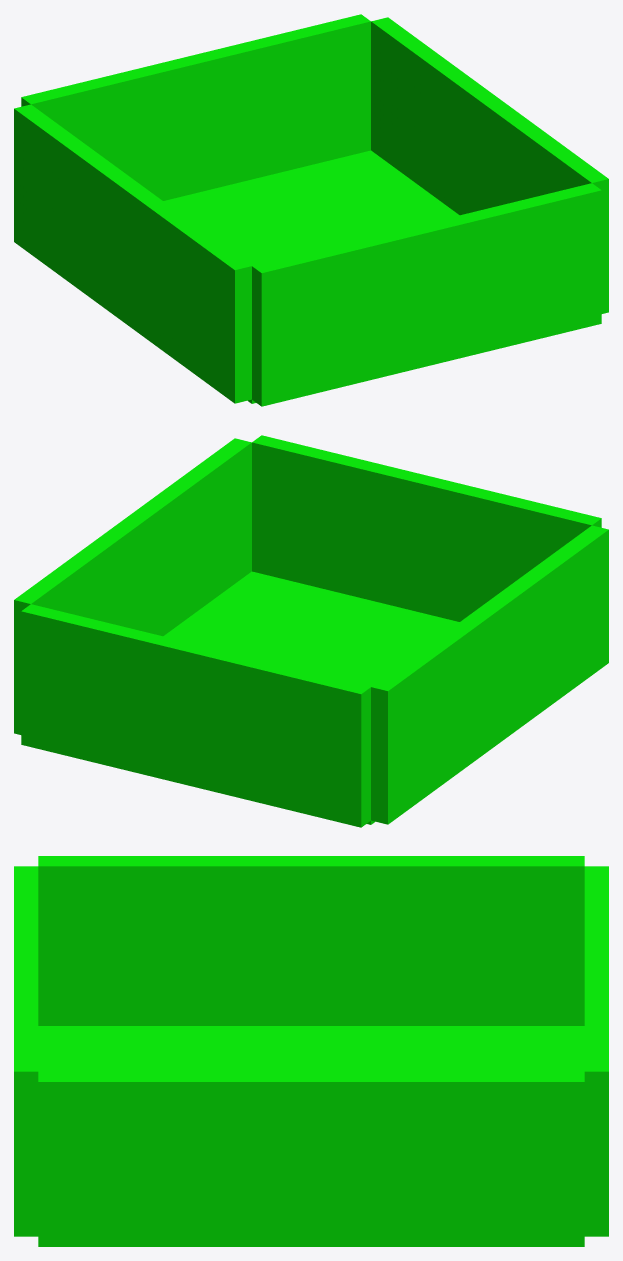
The model's file is arcane-library.collision.glb.
3 views of the same model, one above another, from view 1: azimuth 30°, elevation 25°; view 2: azimuth 150°, elevation 25°; view 3: azimuth 270°, elevation 25° (orthographic). The views are drawn at different scales.
Visible parts, largest first — view 1: south_wall_collision_proxy, north_wall_collision_proxy, west_wall_collision_proxy, east_wall_collision_proxy, floor_collision_proxy; view 2: north_wall_collision_proxy, south_wall_collision_proxy, west_wall_collision_proxy, east_wall_collision_proxy, floor_collision_proxy; view 3: east_wall_collision_proxy, west_wall_collision_proxy, floor_collision_proxy, north_wall_collision_proxy, south_wall_collision_proxy.
Boxes of the visible parts, x1=… form: south_wall_collision_proxy: x1=252, y1=183, x2=601, y2=406; north_wall_collision_proxy: x1=21, y1=14, x2=370, y2=200; west_wall_collision_proxy: x1=14, y1=104, x2=251, y2=403; east_wall_collision_proxy: x1=371, y1=17, x2=608, y2=313; floor_collision_proxy: x1=163, y1=150, x2=459, y2=403; north_wall_collision_proxy: x1=21, y1=604, x2=370, y2=827; south_wall_collision_proxy: x1=252, y1=435, x2=601, y2=621; west_wall_collision_proxy: x1=371, y1=525, x2=608, y2=824; east_wall_collision_proxy: x1=14, y1=438, x2=251, y2=734; floor_collision_proxy: x1=163, y1=571, x2=459, y2=824; east_wall_collision_proxy: x1=38, y1=1071, x2=584, y2=1246; west_wall_collision_proxy: x1=38, y1=856, x2=584, y2=1025; floor_collision_proxy: x1=38, y1=1026, x2=584, y2=1071; north_wall_collision_proxy: x1=584, y1=866, x2=608, y2=1236; south_wall_collision_proxy: x1=14, y1=866, x2=38, y2=1236.
Size of the model in its own units: 8.8 by 3.1 by 9.8.
